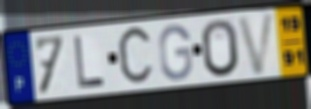7: (33, 33, 66, 96)
C: (115, 22, 156, 90)
G: (157, 22, 194, 83)
L: (72, 33, 107, 89)
O: (199, 17, 241, 79)
V: (235, 10, 278, 78)
